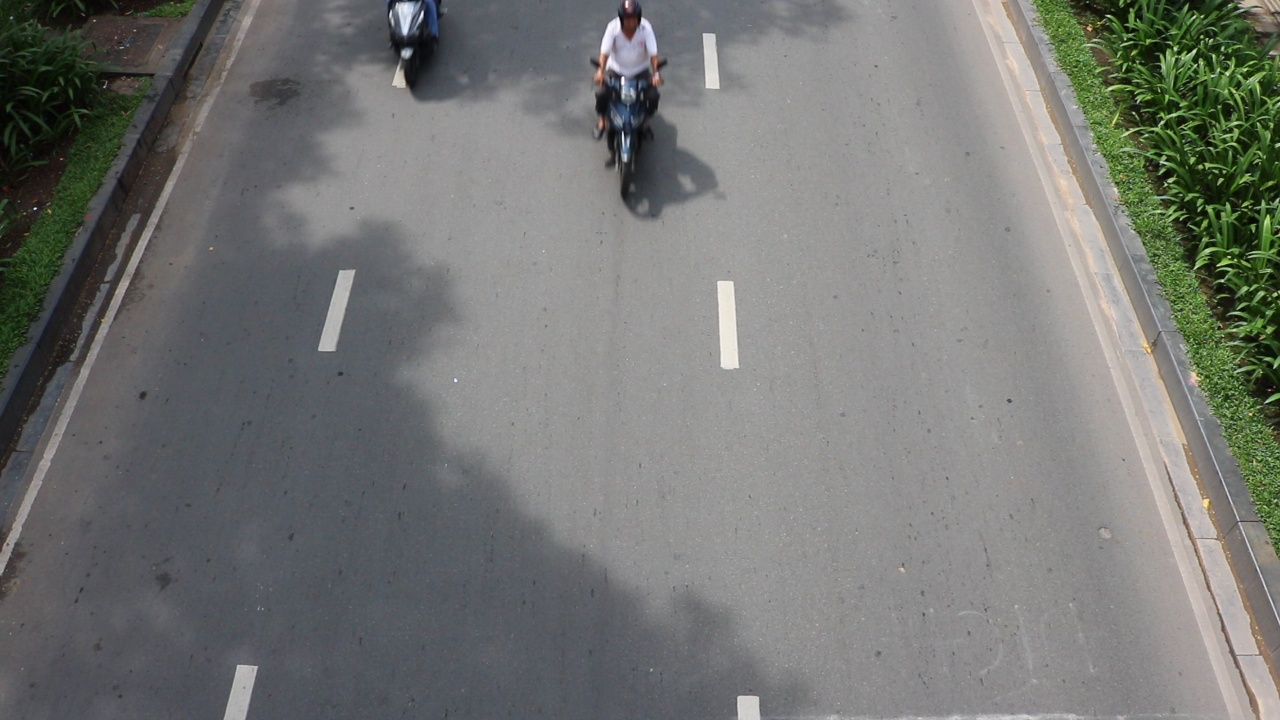motorcycle: (589, 56, 666, 200), (387, 1, 445, 89)
